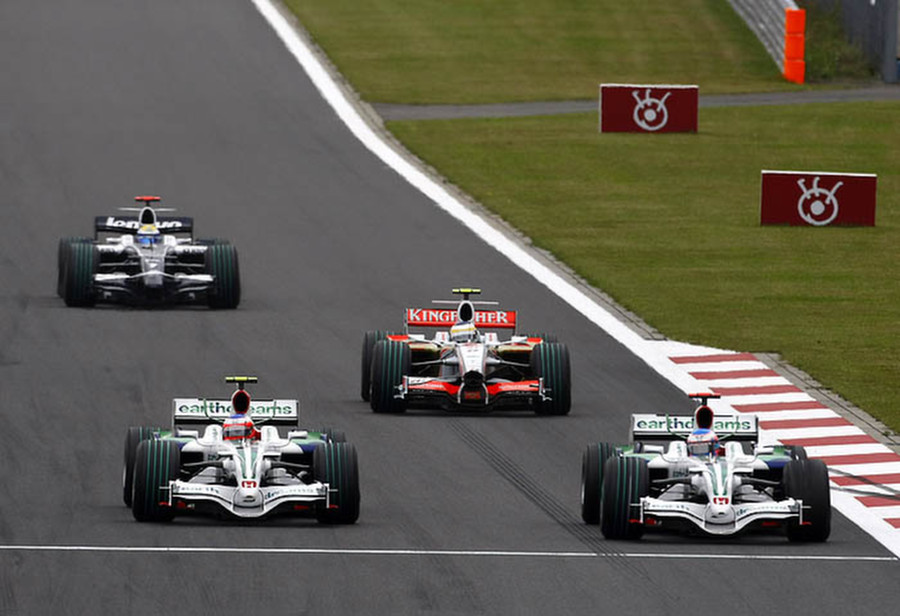race car: (579, 392, 832, 543), (120, 374, 363, 528), (359, 286, 574, 418), (55, 192, 242, 313)
